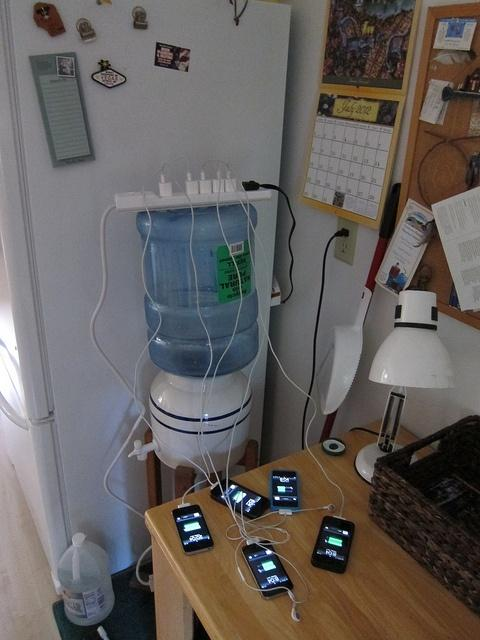Meja: (142, 414, 479, 639)
